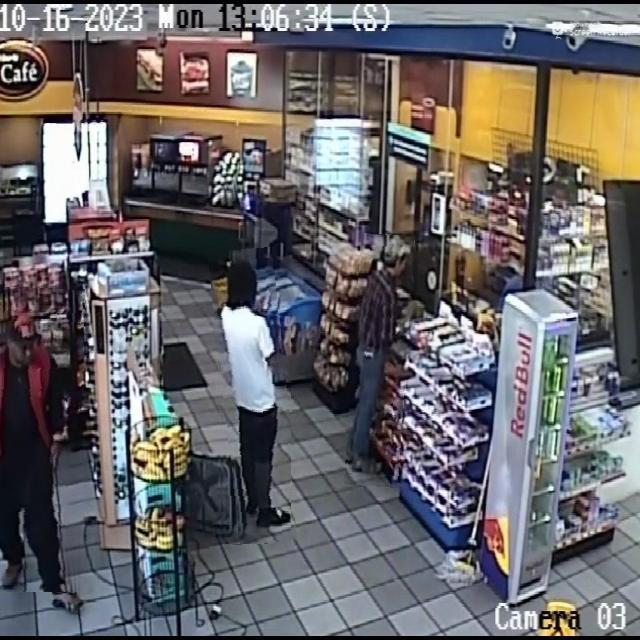Normal: (0, 287, 82, 592), (215, 248, 291, 544), (349, 234, 411, 488)
